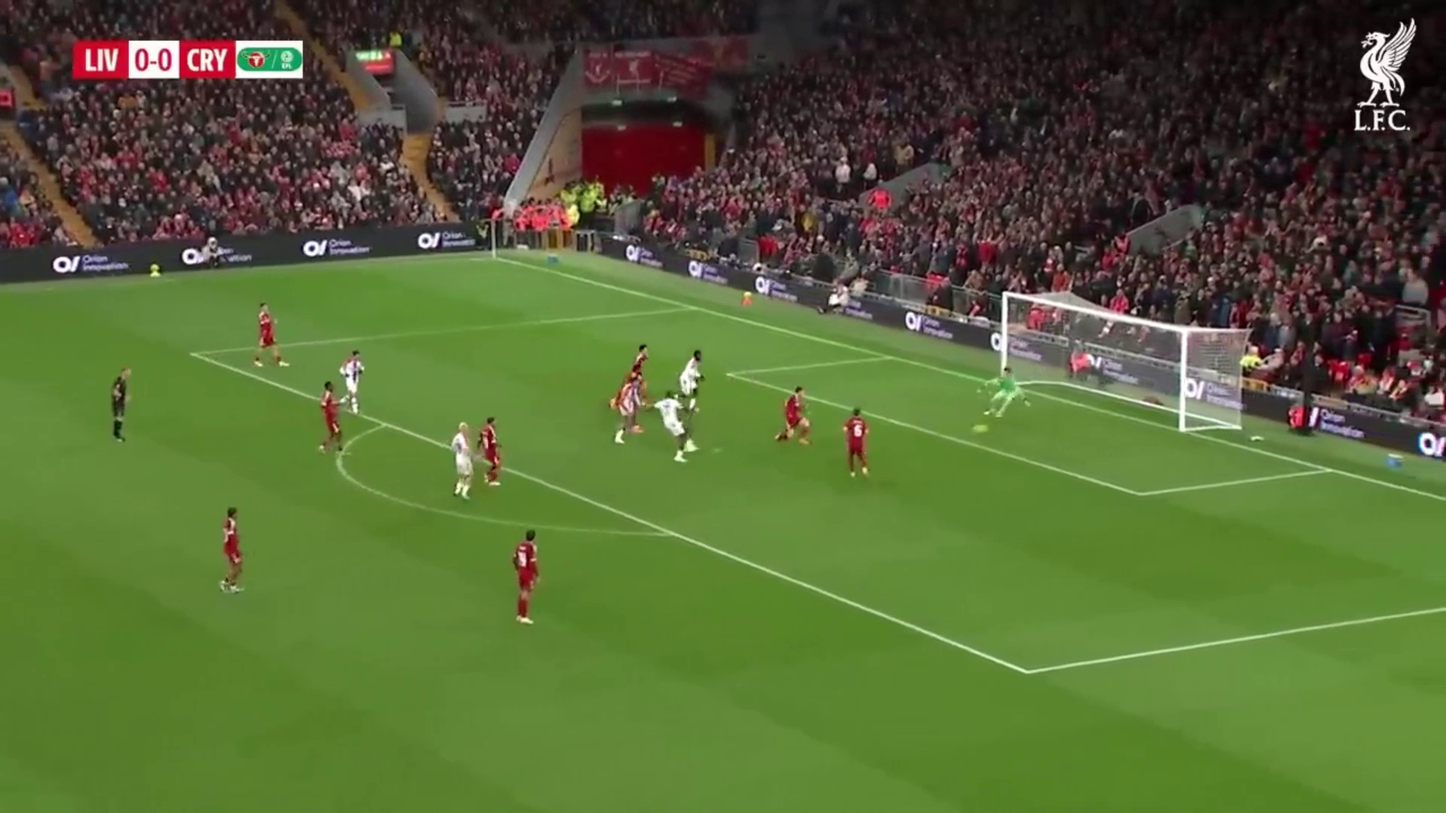player: (672, 348, 704, 459), (610, 366, 646, 444), (512, 530, 541, 625), (218, 508, 245, 594), (775, 387, 812, 447), (843, 406, 870, 480), (451, 421, 475, 500), (318, 383, 345, 452), (479, 416, 503, 488), (109, 367, 131, 442), (254, 301, 279, 366), (678, 348, 704, 403), (340, 350, 362, 412)
